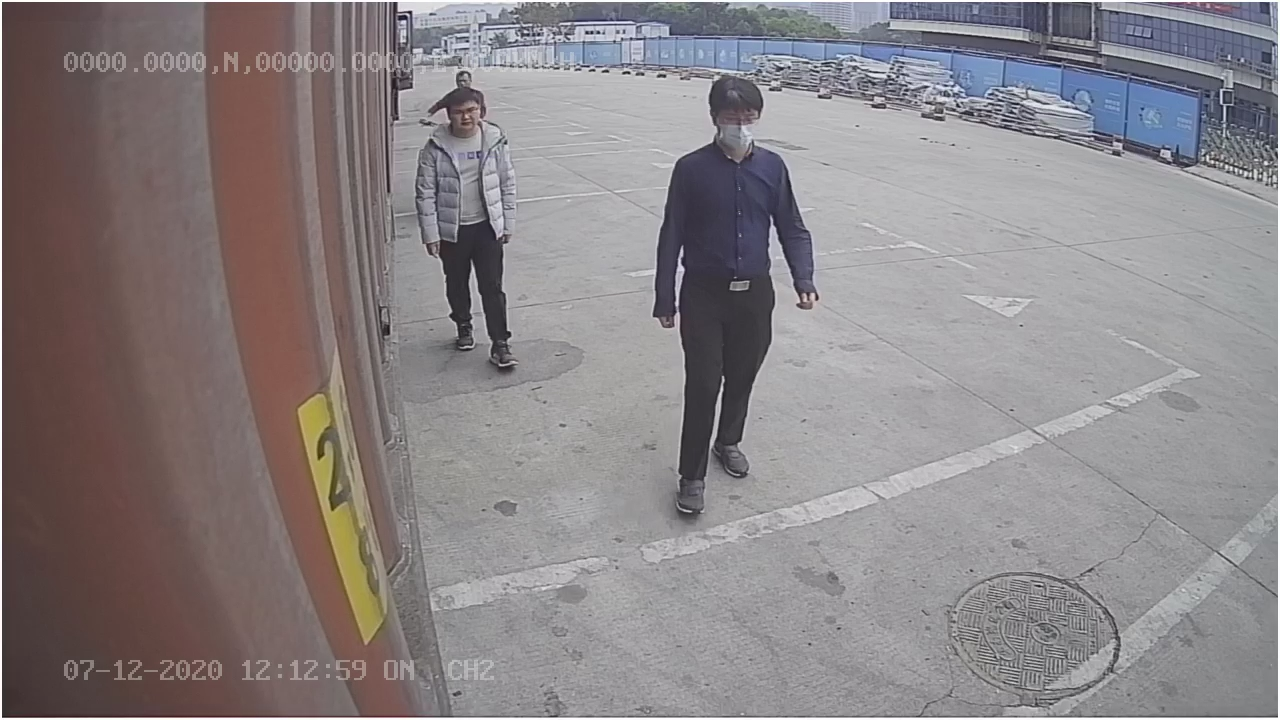person: (654, 74, 821, 512)
